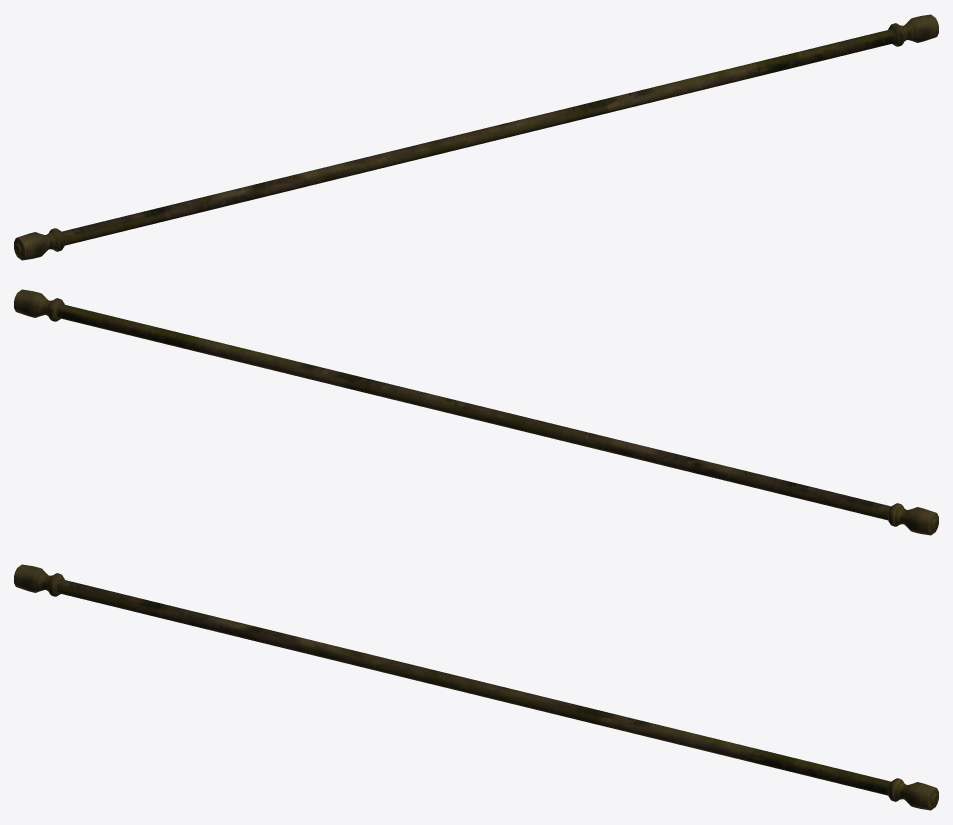
Rendered from Curtain_pole.fbx.
The picture shows the model from 3 angles, top to bottom: view 1: azimuth 30°, elevation 25°; view 2: azimuth 150°, elevation 25°; view 3: azimuth 330°, elevation 25°; orthographic projection.
Parts seen in each view (by area): view 1: Curtain_pole_LOD0; view 2: Curtain_pole_LOD0; view 3: Curtain_pole_LOD0.
Boxes of the visible parts, x1,y1,x2,y2 form: Curtain_pole_LOD0: [14, 14, 938, 260]; Curtain_pole_LOD0: [14, 289, 938, 535]; Curtain_pole_LOD0: [14, 564, 938, 810].
Bounding box in the file's own units: 254 × 5.87 × 5.87.
